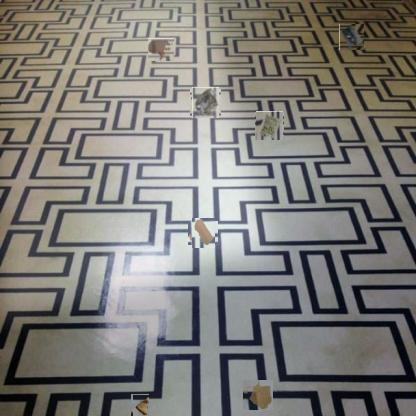dirty: (191, 88, 220, 117), (255, 112, 284, 140), (190, 219, 217, 247), (339, 24, 364, 50), (132, 394, 150, 416)
liquid: (243, 380, 273, 410), (148, 38, 174, 61)
